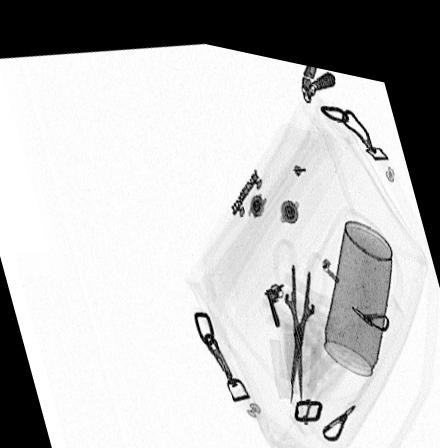Scissors: (269, 221, 333, 399)
